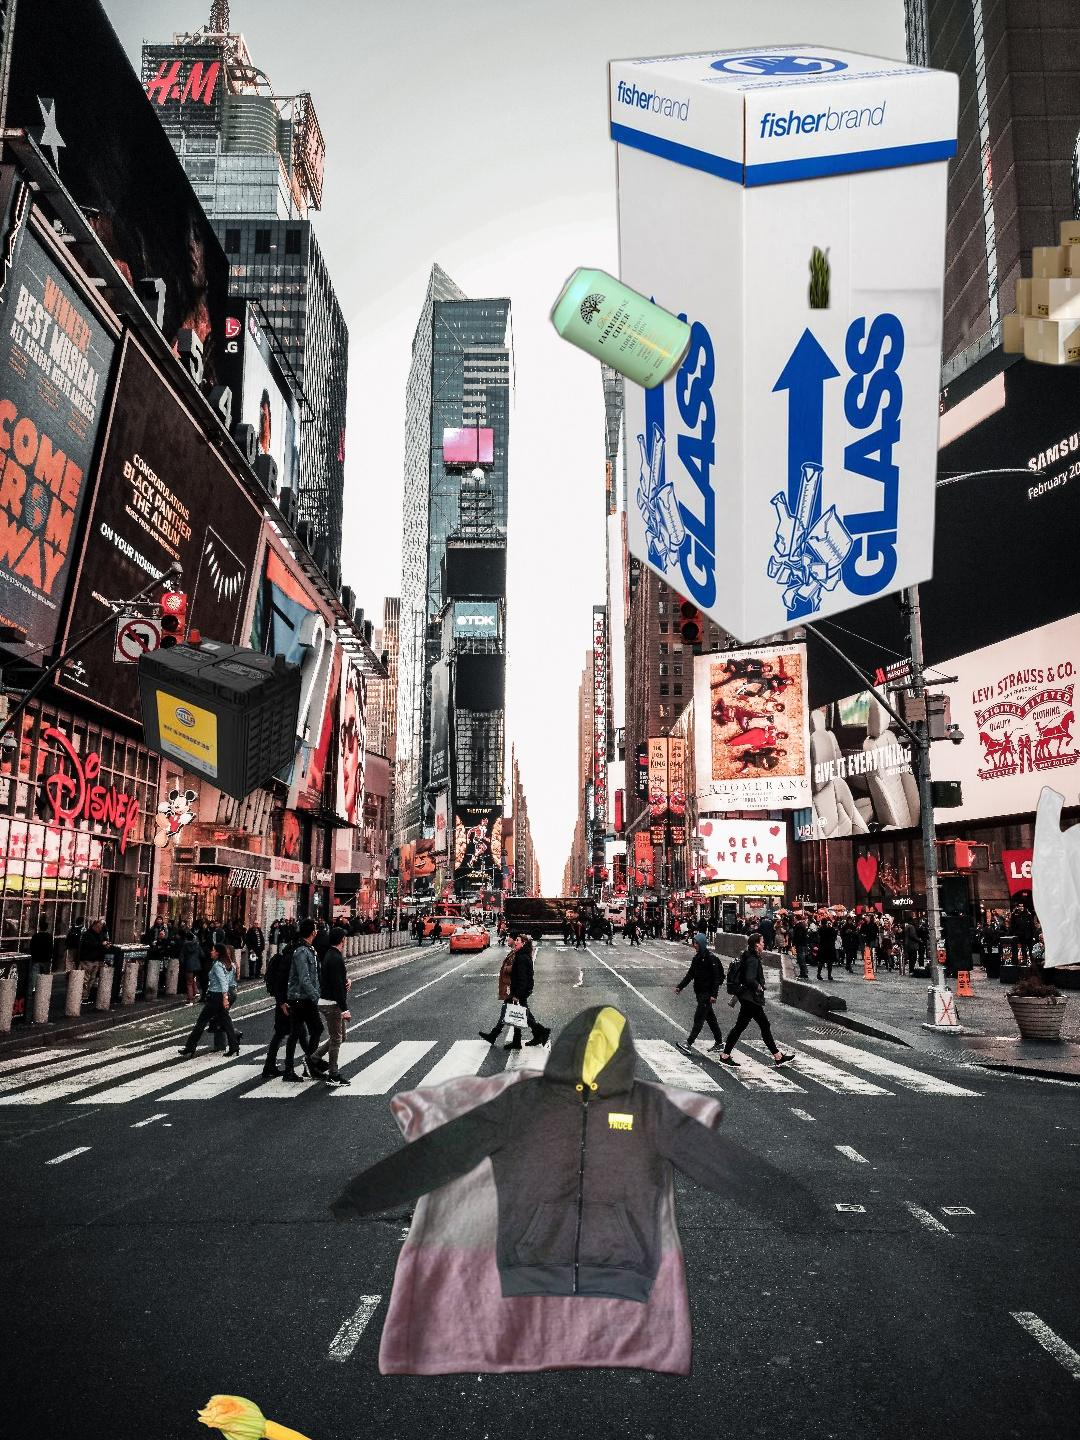battery: (134, 626, 305, 805)
biological: (127, 1391, 366, 1440)
clothes: (323, 1001, 850, 1340), (374, 1053, 728, 1384)
metal-cans: (546, 261, 697, 396)
plastic-bag: (884, 783, 1080, 1051)
trashbox-cardboard: (602, 39, 967, 651), (803, 217, 1080, 408)
